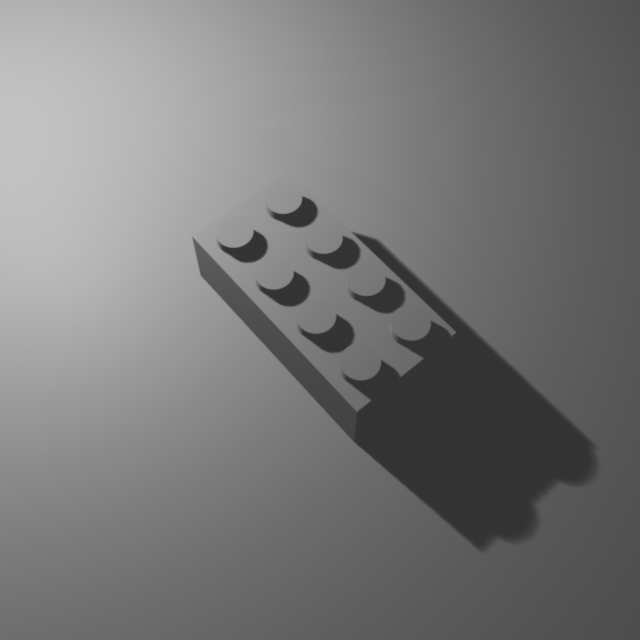lego_2x4: (190, 164, 458, 442)
